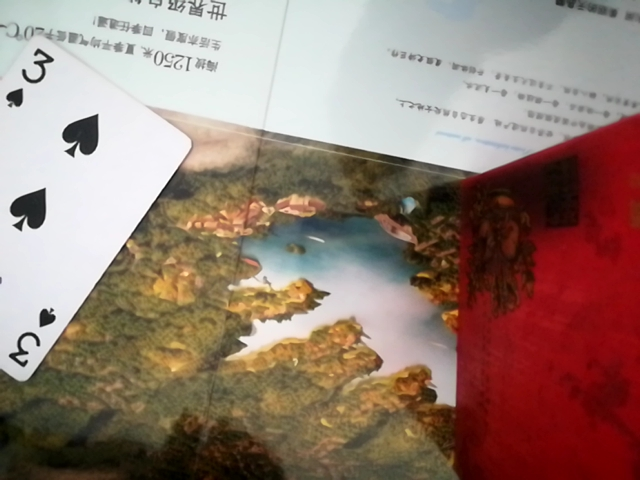ht 3: (0, 17, 200, 395)
